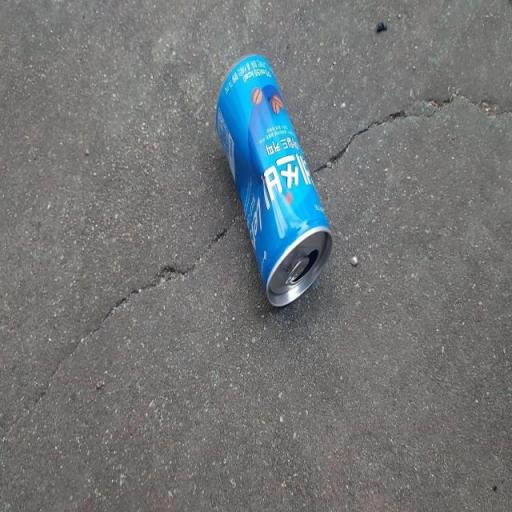metal: (184, 36, 358, 346)
